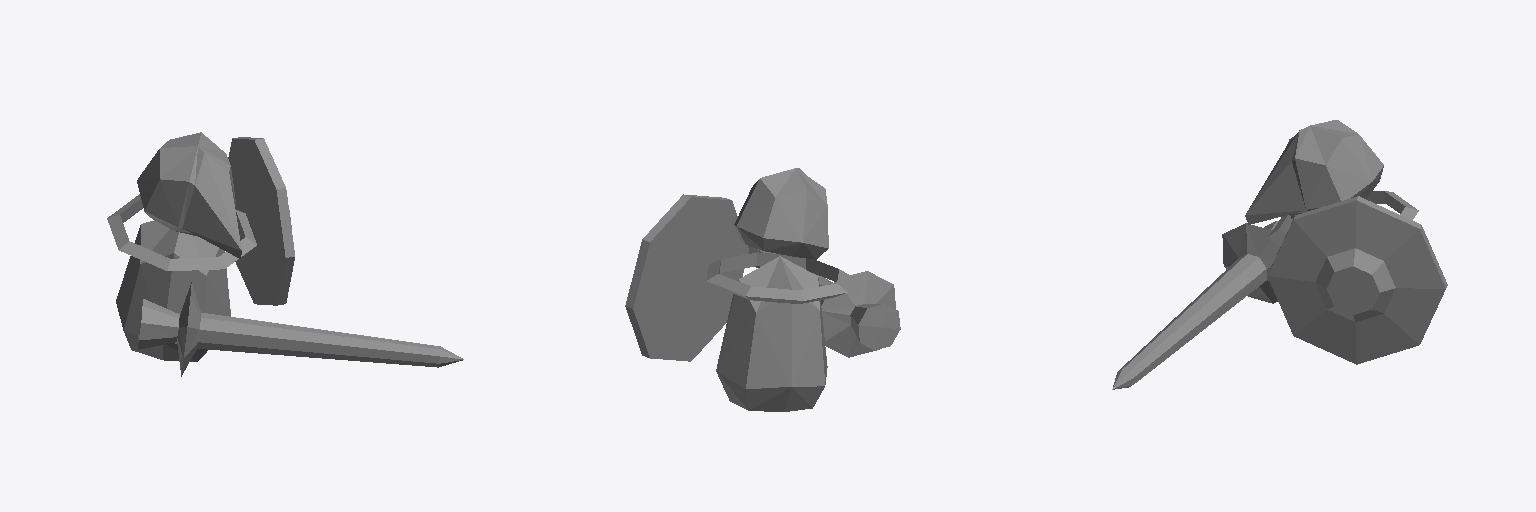
The picture shows the model from 3 angles: view 1: azimuth 30°, elevation 25°; view 2: azimuth 150°, elevation 25°; view 3: azimuth 270°, elevation 25°; orthographic projection.
Visible parts, largest first — view 1: meshMinion; view 2: meshMinion; view 3: meshMinion.
Boxes of the visible parts, x1,y1,x2,y2 form: meshMinion: [107, 132, 463, 376]; meshMinion: [625, 168, 900, 411]; meshMinion: [1112, 120, 1447, 389].
Size of the model in its own units: 120 by 101 by 140.